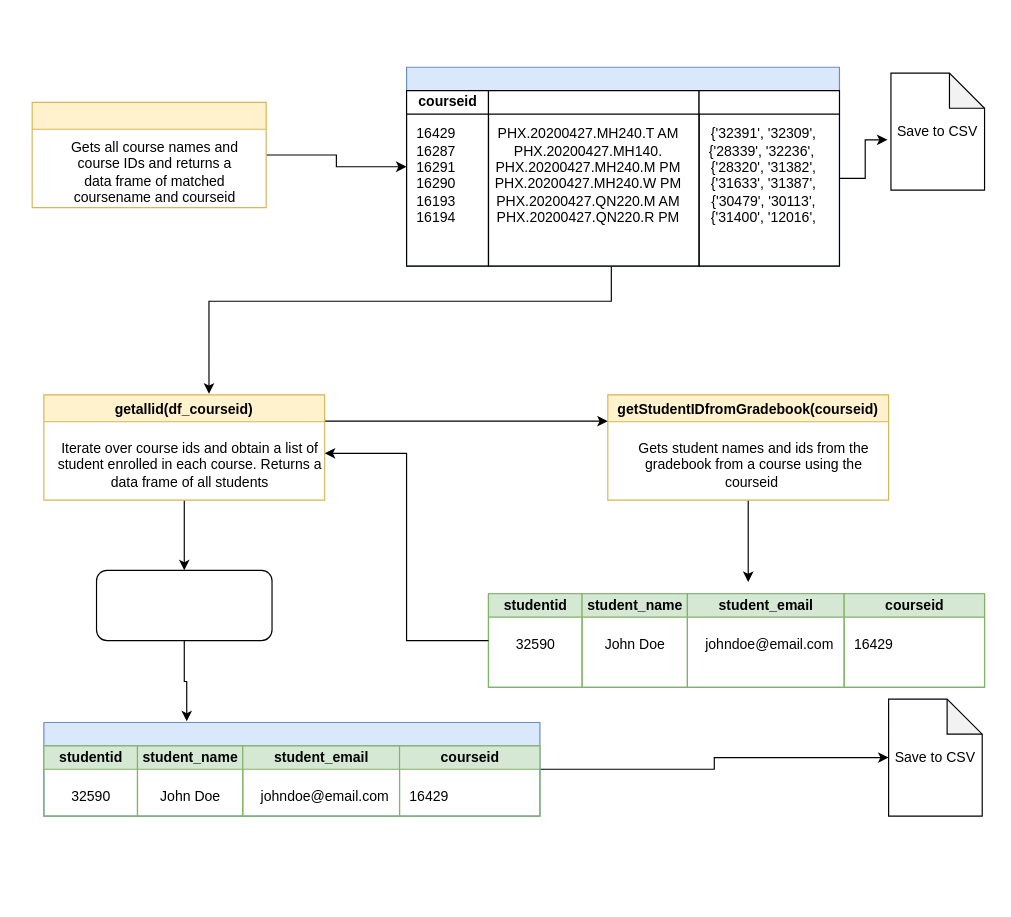
Some shapes in this 1011 by 917 pixel diagram are drawn without their labels. Here are the shapes that lost their labels. From the top down, the box of each, then its label:
(31, 101, 266, 208): getCourseID()
(405, 66, 839, 266): df_courseid
(487, 90, 699, 266): coursenames
(698, 90, 839, 266): studentids
(95, 569, 272, 641): Merge all studentid dataframes from different courses into one big dataframe
(43, 721, 540, 816): dfstudentid
